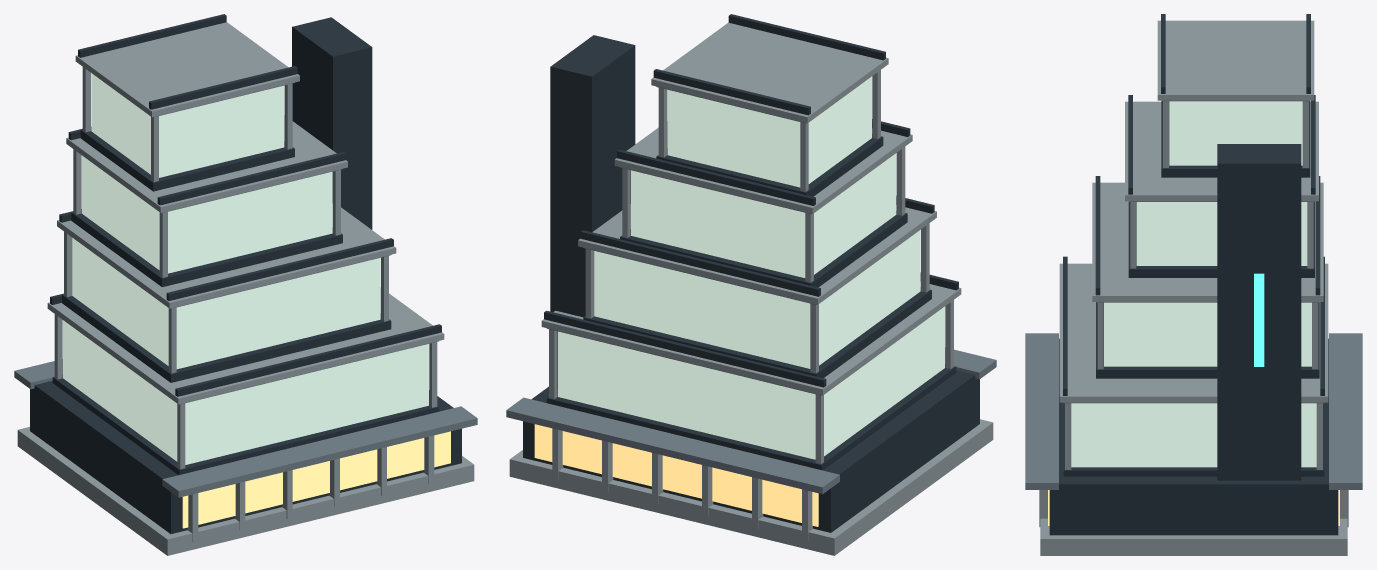
File: vrx_city_services_a_LOD1.fbx
3 renders of one model, left to right at view 1: azimuth 30°, elevation 25°; view 2: azimuth 150°, elevation 25°; view 3: azimuth 270°, elevation 25°, orthographic. The views are drawn at different scales.
Visible parts, largest first — view 1: vrx_city_services_a_LOD1; view 2: vrx_city_services_a_LOD1; view 3: vrx_city_services_a_LOD1.
Part boxes in pixels (box(x1,y1,x2,y2)): vrx_city_services_a_LOD1: box(14, 14, 477, 555); vrx_city_services_a_LOD1: box(506, 14, 996, 555); vrx_city_services_a_LOD1: box(1025, 14, 1362, 555).
Bounding box in the file's own units: 39 × 48.5 × 36.2.
